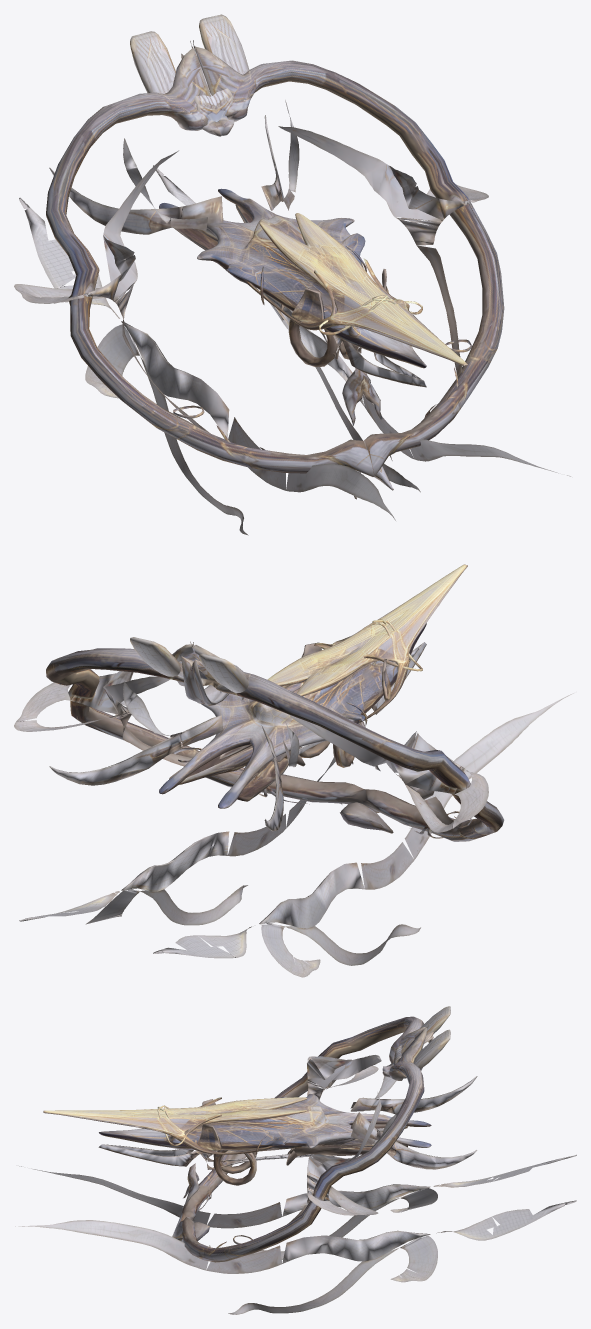
File: frigate_slim_desktop.glb
3 views of the same model, one above another, from view 1: azimuth 30°, elevation 25°; view 2: azimuth 150°, elevation 25°; view 3: azimuth 270°, elevation 25° (orthographic). The views are drawn at different scales.
Visible parts, largest first — view 1: frigate_slim; view 2: frigate_slim; view 3: frigate_slim.
Boxes of the visible parts, <box> form: frigate_slim: <box>14,14,570,535</box>; frigate_slim: <box>14,564,573,977</box>; frigate_slim: <box>15,1006,576,1314</box>.
Bounding box in the file's own units: 6.52 × 5.2 × 10.
Materials: 1 (1 with a texture image).
